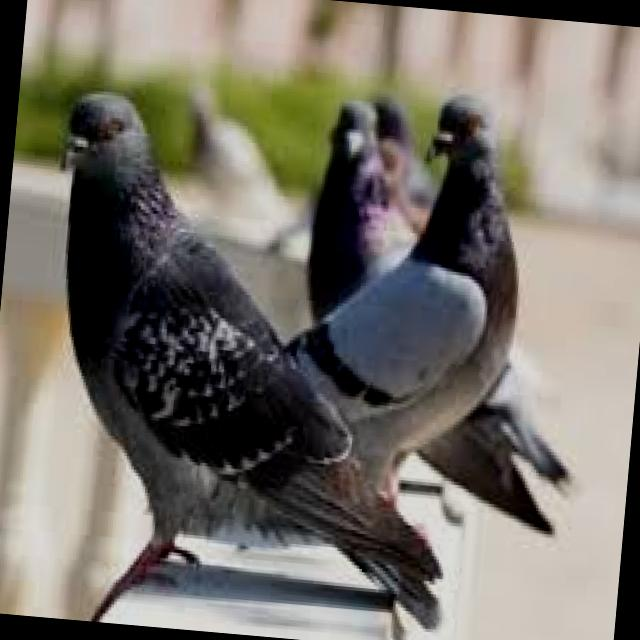bird: (11, 76, 490, 636), (261, 80, 548, 520), (295, 85, 428, 338)
